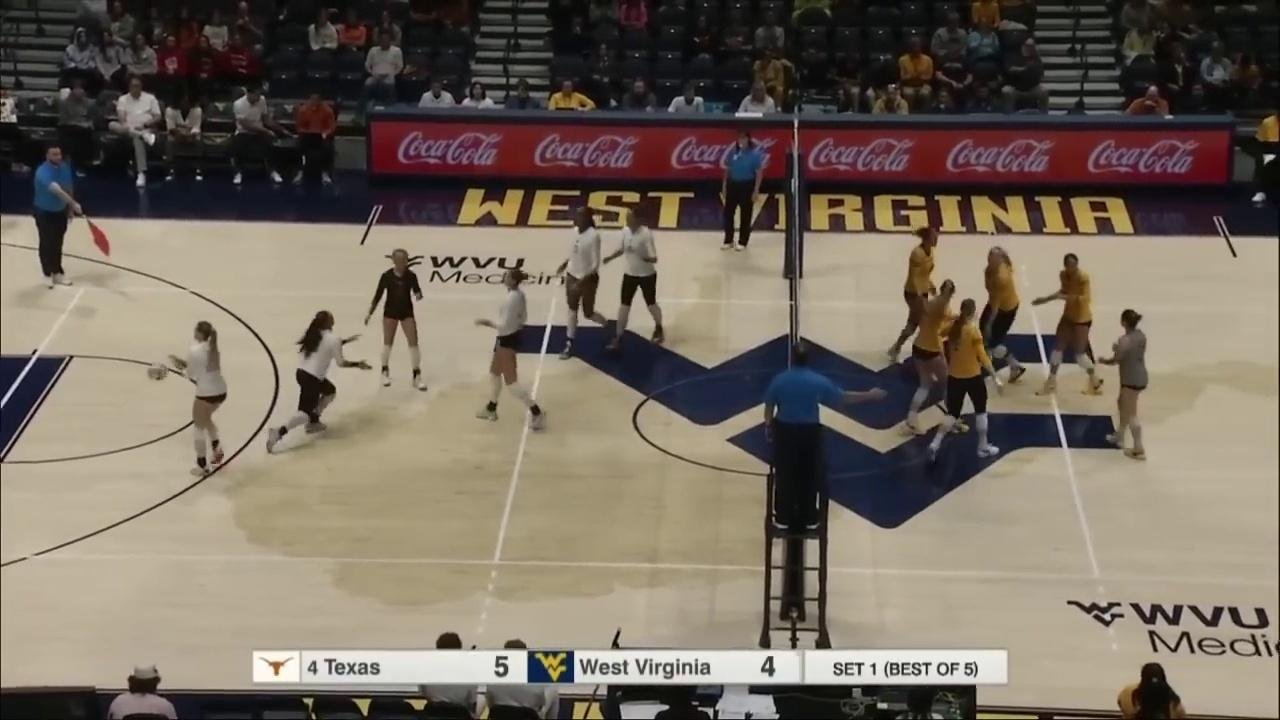player: (266, 312, 368, 457), (474, 269, 548, 429), (929, 297, 998, 459), (905, 281, 971, 435), (1033, 254, 1102, 397), (166, 322, 229, 475), (555, 206, 616, 357), (605, 207, 666, 350), (366, 250, 427, 391), (889, 225, 948, 365), (1105, 308, 1149, 457), (980, 247, 1024, 383)
refree: (763, 343, 882, 525), (33, 147, 105, 288), (721, 133, 765, 248)
